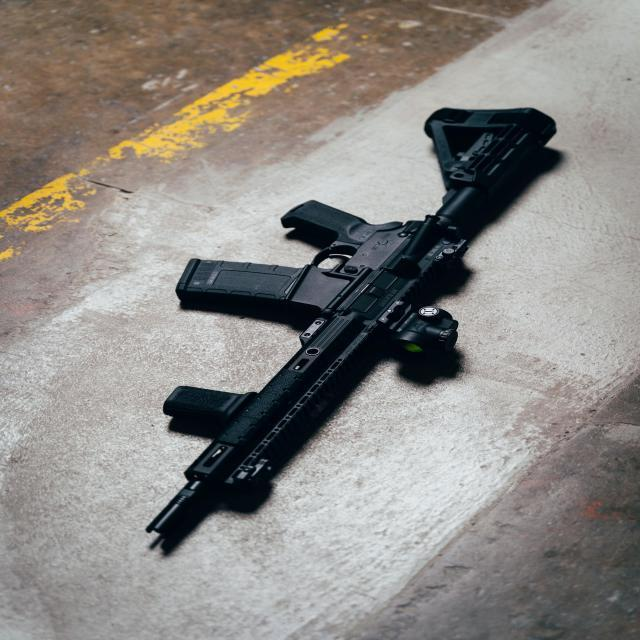weapon: (144, 105, 560, 539)
